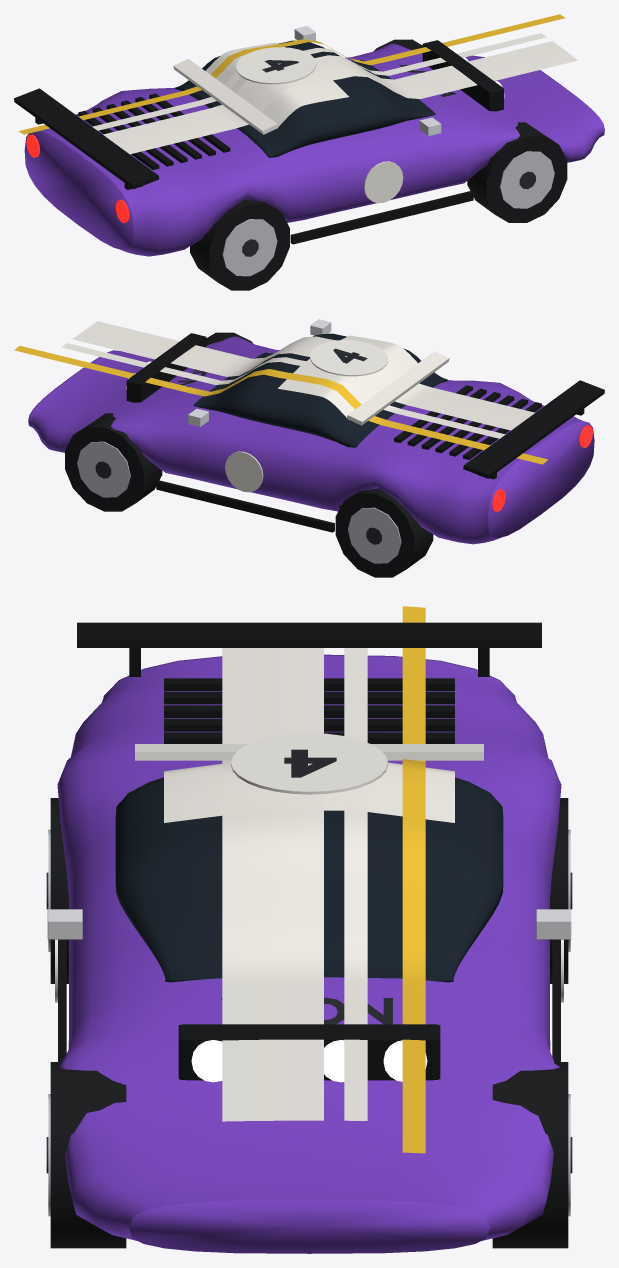
The model's file is car-1.glb.
The picture shows the model from 3 angles, top to bottom: view 1: azimuth 30°, elevation 25°; view 2: azimuth 150°, elevation 25°; view 3: azimuth 270°, elevation 25°; orthographic projection. The views are drawn at different scales.
Visible parts, largest first — view 1: car-1; view 2: car-1; view 3: car-1.
Boxes of the visible parts, x1,y1,x2,y2 form: car-1: (14, 14, 604, 290); car-1: (14, 319, 604, 577); car-1: (46, 606, 572, 1253).
Bounding box in the file's own units: 3.85 × 1.06 × 1.66.
